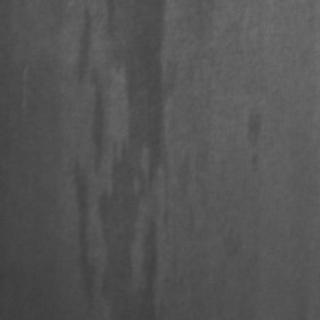inclusion: (69, 0, 169, 314), (234, 106, 266, 174)
